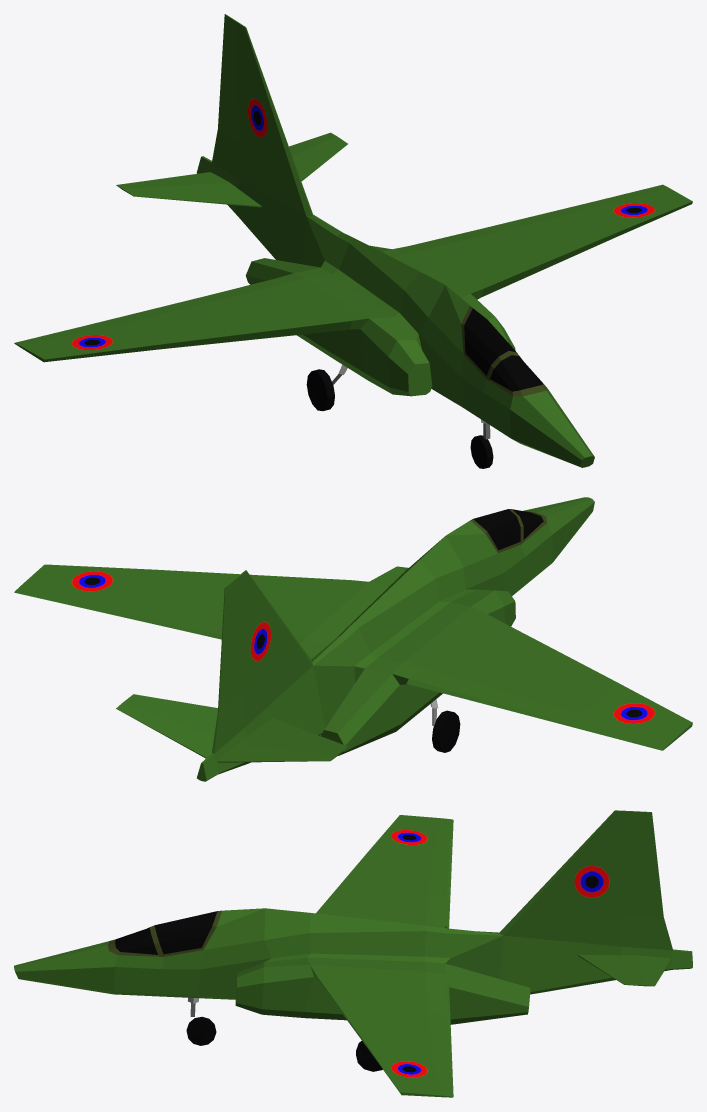
3 renders of one model, top to bottom at view 1: azimuth 30°, elevation 25°; view 2: azimuth 150°, elevation 25°; view 3: azimuth 270°, elevation 25°, orthographic. The views are drawn at different scales.
Parts seen in each view (by area): view 1: Circle.064, Circle.071, Circle.070, Circle.065, Landing gear_RR.004, Circle.066, Circle.068, Landing gear_F.004, Circle.074; view 2: Circle.064, Circle.077, Circle.065, Circle.068, Circle.074, Circle.071, Circle.067, Circle.066, Landing gear_RR.004, Circle.069, Circle.075, Circle.070; view 3: Circle.064, Circle.065, Circle.071, Circle.070, Circle.074, Circle.068, Landing gear_F.004, Circle.076, Circle.067, Circle.077, Circle.075, Circle.069 (+1 smaller).
Part boxes in pixels (<box>): Circle.064: <box>14,14,692,467</box>; Circle.071: <box>461,306,517,379</box>; Circle.070: <box>487,353,546,396</box>; Circle.065: <box>218,59,240,143</box>; Landing gear_RR.004: <box>306,364,347,411</box>; Circle.066: <box>116,173,221,189</box>; Circle.068: <box>110,296,214,324</box>; Landing gear_F.004: <box>470,419,493,468</box>; Circle.074: <box>480,207,580,233</box>; Circle.064: <box>14,497,692,781</box>; Circle.077: <box>116,703,213,756</box>; Circle.065: <box>218,624,242,712</box>; Circle.068: <box>477,688,580,726</box>; Circle.074: <box>108,602,214,635</box>; Circle.071: <box>470,509,522,552</box>; Circle.067: <box>406,667,489,701</box>; Circle.066: <box>225,745,336,762</box>; Landing gear_RR.004: <box>430,699,460,752</box>; Circle.069: <box>570,715,657,747</box>; Circle.075: <box>25,588,118,613</box>; Circle.070: <box>510,509,546,542</box>; Circle.064: <box>14,810,692,1097</box>; Circle.065: <box>623,852,663,917</box>; Circle.071: <box>152,910,221,956</box>; Circle.070: <box>108,926,161,956</box>; Circle.074: <box>428,1011,451,1056</box>; Circle.068: <box>428,856,451,897</box>; Landing gear_F.004: <box>186,997,216,1045</box>; Circle.076: <box>426,979,450,1015</box>; Circle.067: <box>426,894,450,928</box>; Circle.077: <box>638,957,670,986</box>; Circle.075: <box>432,1053,453,1091</box>; Circle.069: <box>432,823,453,858</box>.
Bounding box in the file's own units: 1138 × 448 × 1177.
